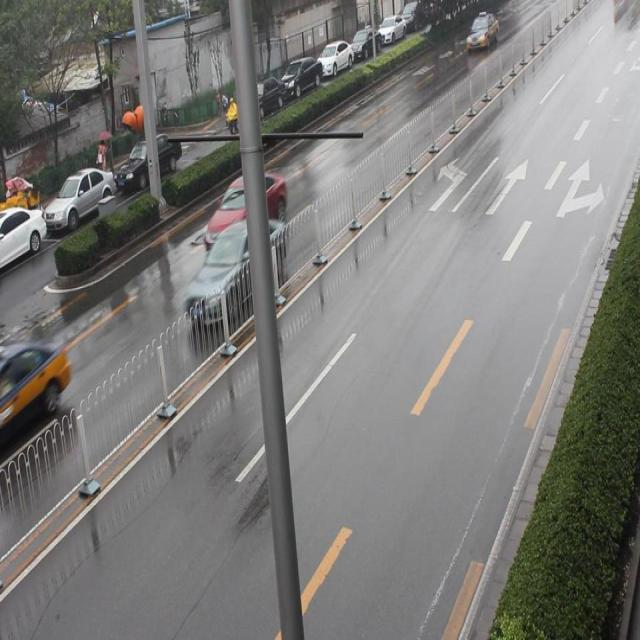car: (180, 216, 289, 332), (0, 332, 74, 454), (203, 168, 289, 246), (462, 8, 497, 54)
